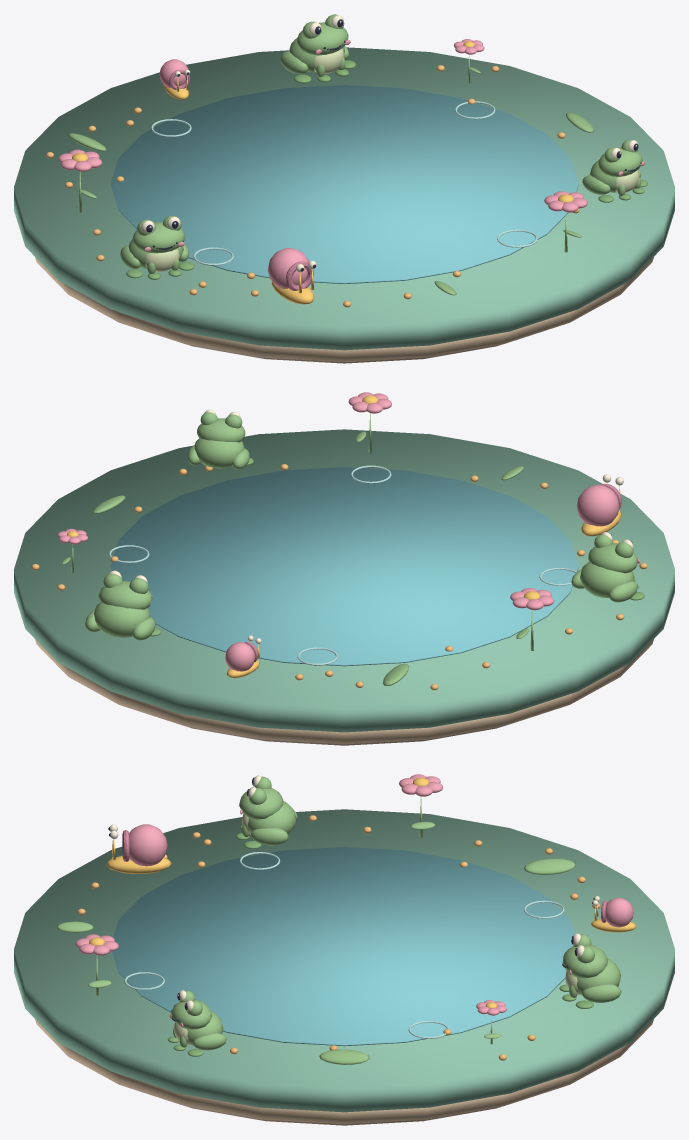
The model's file is world.glb.
3 views of the same model, one above another, from view 1: azimuth 30°, elevation 25°; view 2: azimuth 150°, elevation 25°; view 3: azimuth 270°, elevation 25° (orthographic).
Parts seen in each view (by area): view 1: Cone, Cone.003, Cone.001, frog.001, frog.002, frog.003, snail.002, snail.001, flower.002, flower.003, Cone.002; view 2: Cone, Cone.003, Cone.001, frog.001, frog.002, frog.003, snail.002, snail.001, flower.002, flower.003, Cone.002; view 3: Cone, Cone.003, Cone.001, frog.001, frog.002, frog.003, snail.002, snail.001, flower.002, flower.003, leaf.002, leaf.001 (+1 smaller).
Boxes of the visible parts, box(x1,y1,x2,y2) form: Cone: box(14, 47, 674, 350); Cone.003: box(110, 85, 578, 283); Cone.001: box(35, 257, 653, 362); frog.001: box(280, 14, 355, 83); frog.002: box(120, 215, 194, 279); frog.003: box(582, 139, 647, 202); snail.002: box(268, 248, 316, 304); snail.001: box(159, 59, 190, 99); flower.002: box(58, 149, 102, 212); flower.003: box(544, 191, 587, 252); Cone.002: box(188, 344, 500, 363); Cone: box(14, 429, 674, 732); Cone.003: box(110, 467, 578, 666); Cone.001: box(35, 639, 653, 744); frog.001: box(85, 570, 161, 640); frog.002: box(571, 532, 644, 602); frog.003: box(187, 409, 253, 469); snail.002: box(576, 474, 623, 536); snail.001: box(225, 635, 261, 677); flower.002: box(510, 588, 554, 650); flower.003: box(348, 392, 391, 453); Cone.002: box(187, 726, 501, 745); Cone: box(14, 809, 674, 1112); Cone.003: box(112, 847, 574, 1046); Cone.001: box(35, 1019, 653, 1124); frog.001: box(559, 933, 621, 1008); frog.002: box(236, 775, 297, 848); frog.003: box(167, 990, 226, 1056); snail.002: box(106, 824, 171, 873); snail.001: box(591, 896, 636, 932); flower.002: box(399, 774, 442, 837); flower.003: box(75, 934, 118, 995); leaf.002: box(524, 858, 575, 874); leaf.001: box(319, 1049, 369, 1064).
Size of the model in its own units: 9.6 by 1.73 by 9.6.
